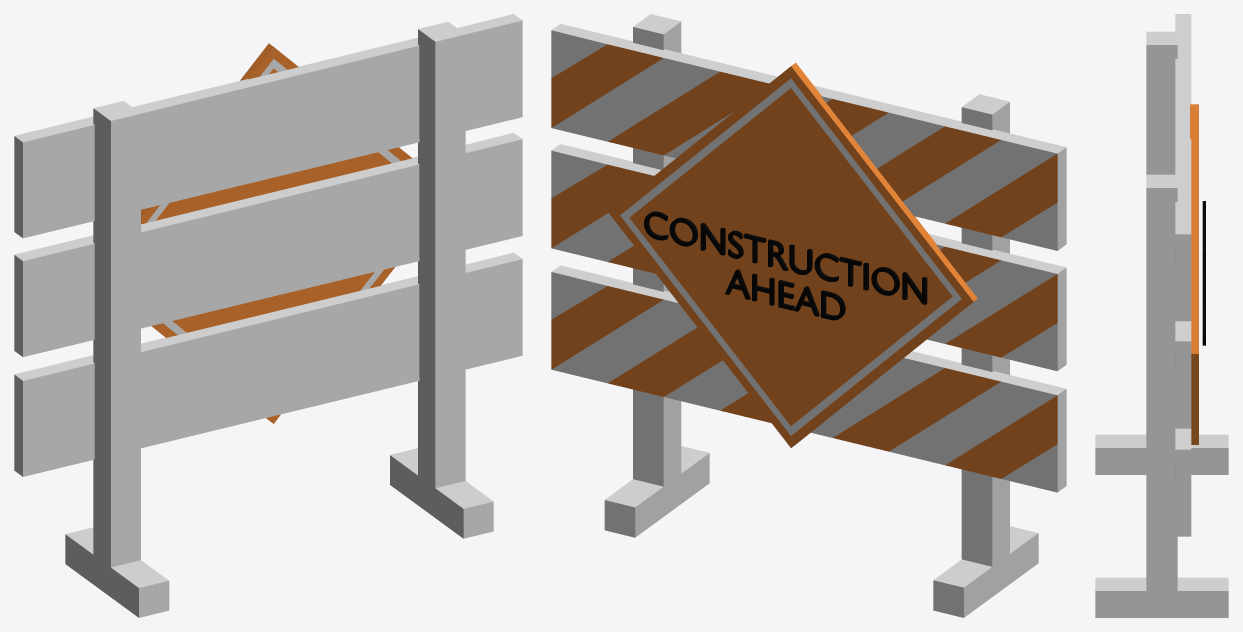
Rendered from constructionahead.fbx.
3 renders of one model, left to right at view 1: azimuth 30°, elevation 25°; view 2: azimuth 150°, elevation 25°; view 3: azimuth 270°, elevation 25°, orthographic. The views are drawn at different scales.
Parts seen in each view (by area): view 1: construction ahead obstacle; view 2: construction ahead obstacle; view 3: construction ahead obstacle.
Boxes of the visible parts, bbox=[...] form: construction ahead obstacle: bbox=[14, 14, 522, 617]; construction ahead obstacle: bbox=[551, 14, 1066, 617]; construction ahead obstacle: bbox=[1095, 14, 1228, 617].
Size of the model in its own units: 308 by 287 by 78.64.
